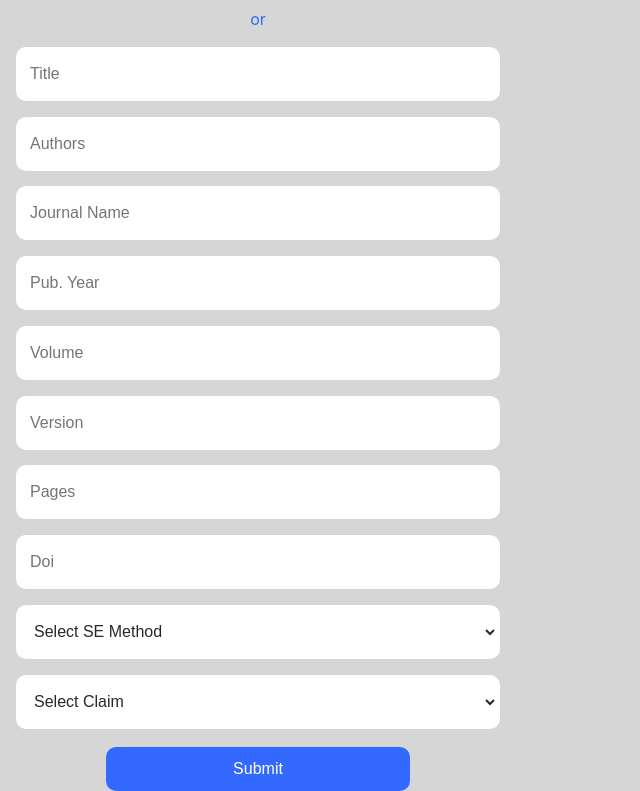
Test case: validation of empty fields
The image size is (640, 791).
(page scrolled)
Click the button named "submit".
click(258, 769)  # box [108,749,408,789]
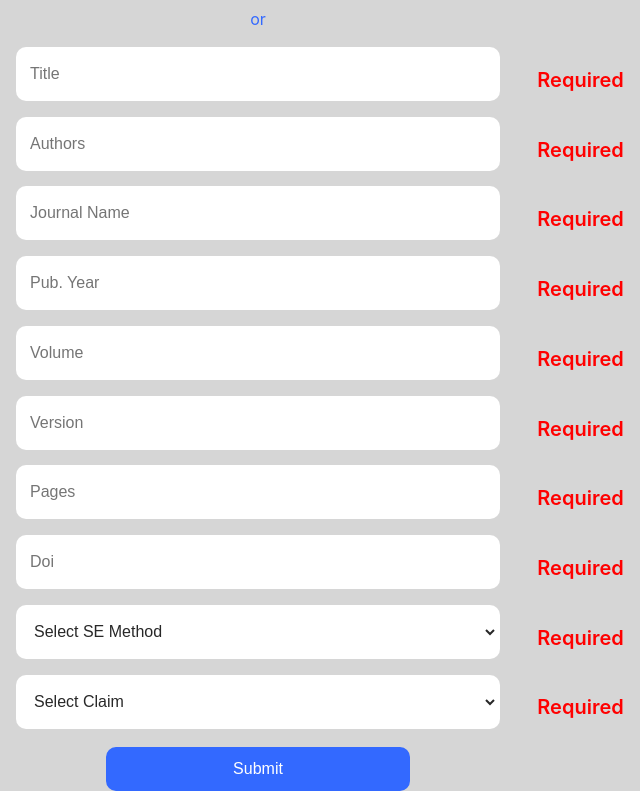
Expected: the text "Required" is shown 10 times
